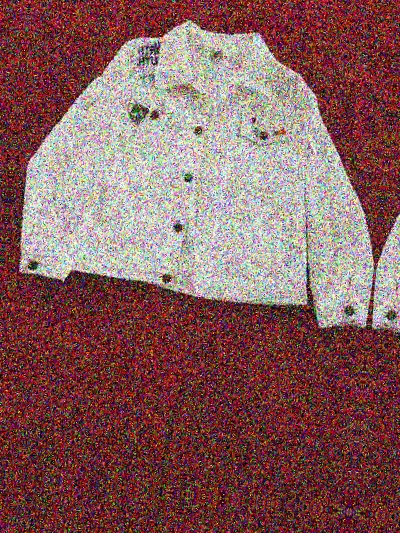Blazer: (9, 3, 400, 345), (367, 42, 400, 383), (0, 0, 17, 304)
